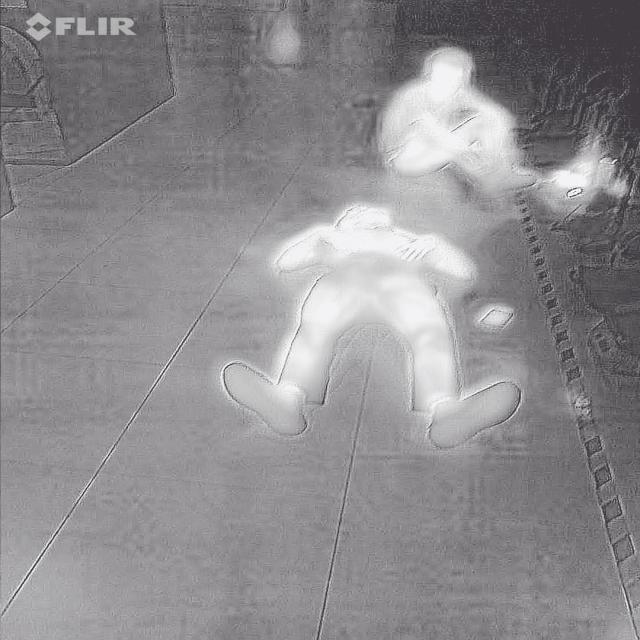Victim: (206, 195, 532, 451), (376, 39, 541, 204)
